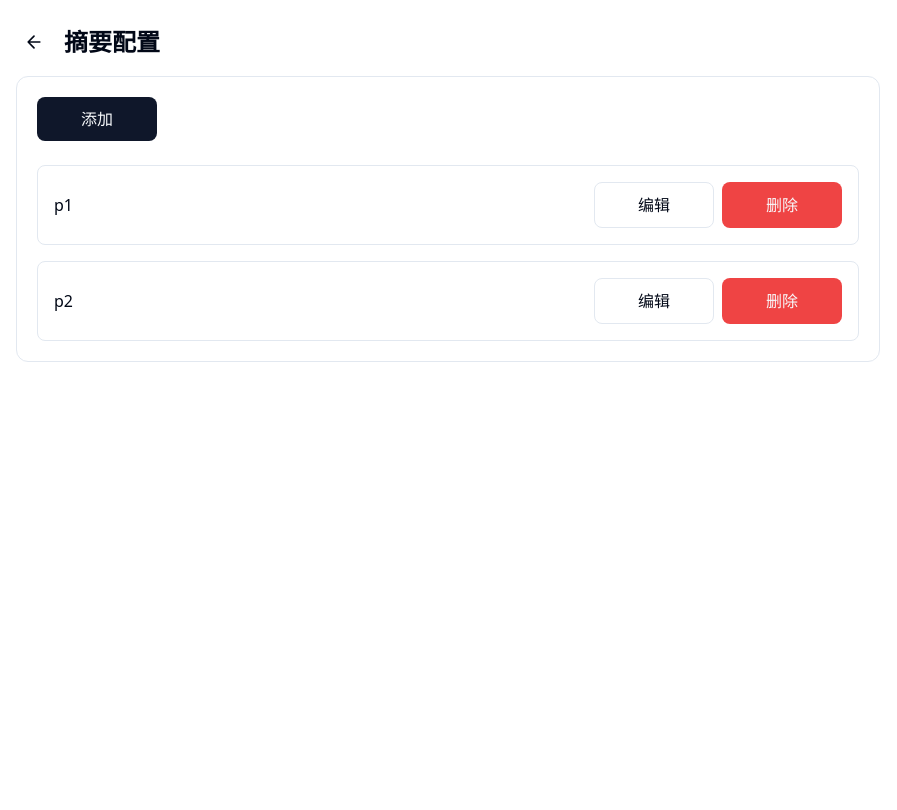
Scenario: Summary profile management interaction (S014) › Boundary/exception › required field missing shows validation feedback
Expected: the text "p1" is shown, [54, 193, 73, 217]
Click the button "添加" at (97, 119), box [37, 97, 157, 141]
(page scrolled)
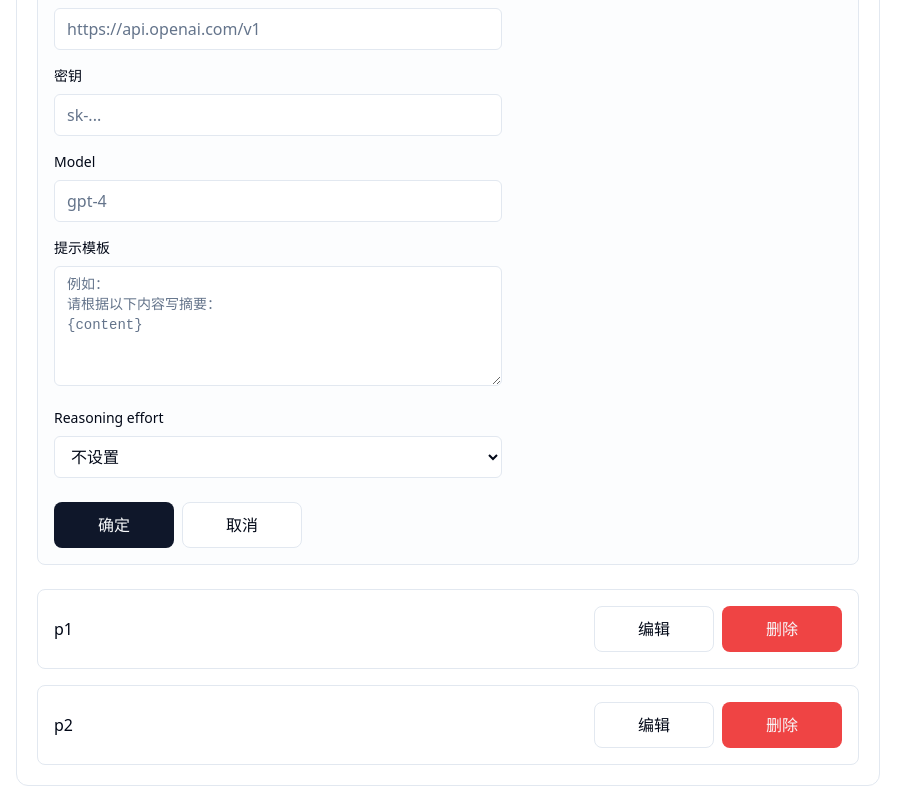
Click the button "确定" at (114, 525), box [54, 502, 174, 548]
(page scrolled)
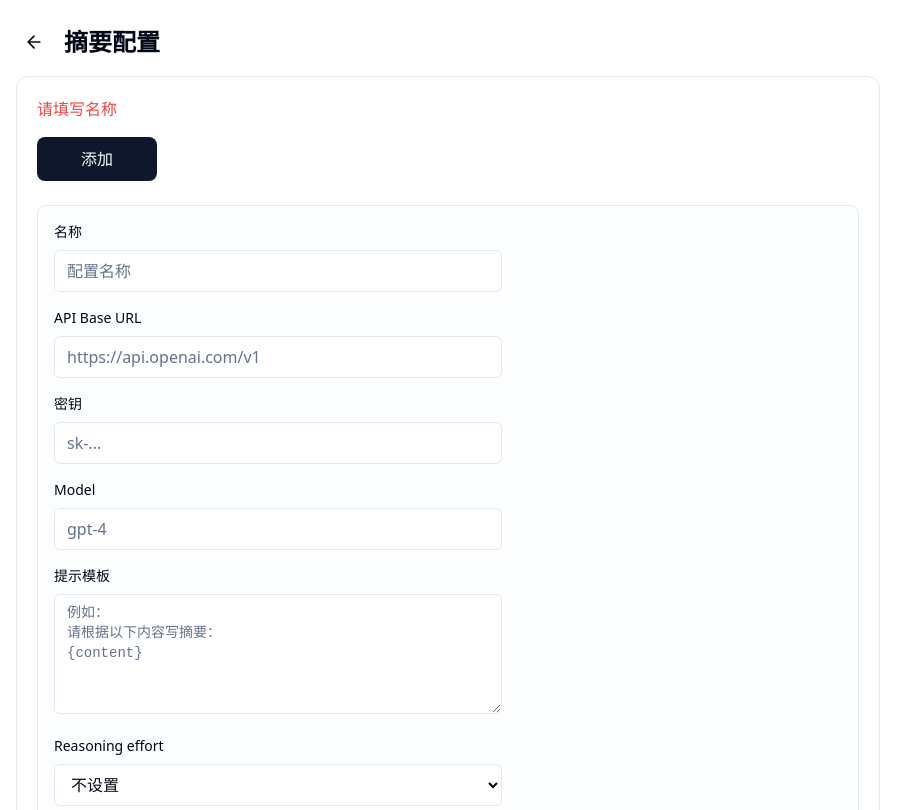
Expected: the message reads "请填写名称", [37, 98, 117, 120]
